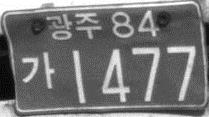1: (70, 47, 87, 104)
4: (99, 46, 131, 103), (137, 7, 160, 38)
7: (165, 43, 196, 103), (130, 46, 162, 103)
8: (111, 9, 135, 40)
가: (20, 51, 57, 90)
광주_O: (45, 11, 103, 42)
